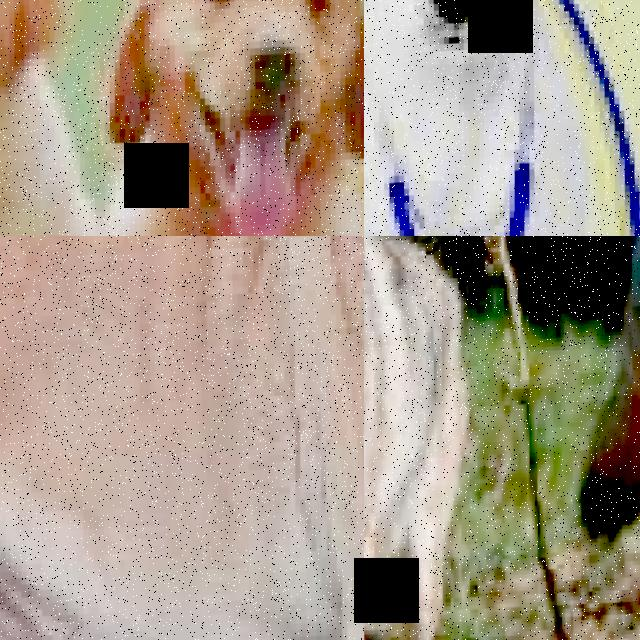dog: (0, 236, 364, 640), (29, 0, 364, 236), (364, 0, 640, 236), (0, 0, 137, 236)
wolf: (364, 236, 550, 640), (529, 236, 640, 640)
